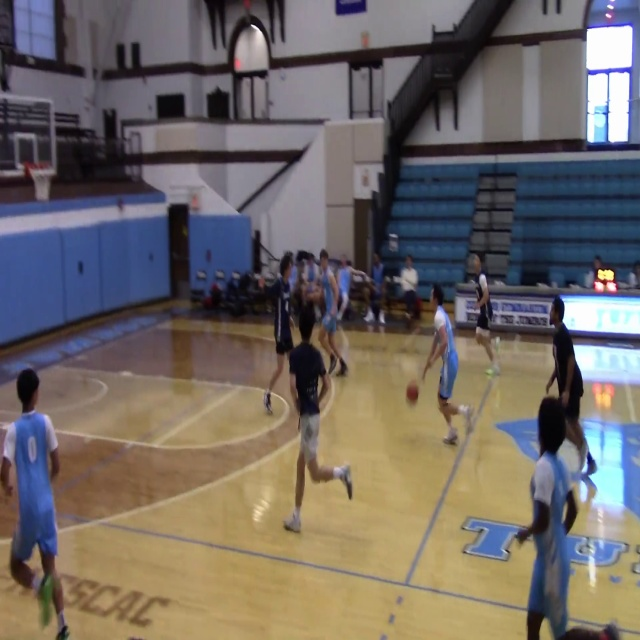Basketball: (406, 380, 419, 402), (306, 289, 323, 304)
